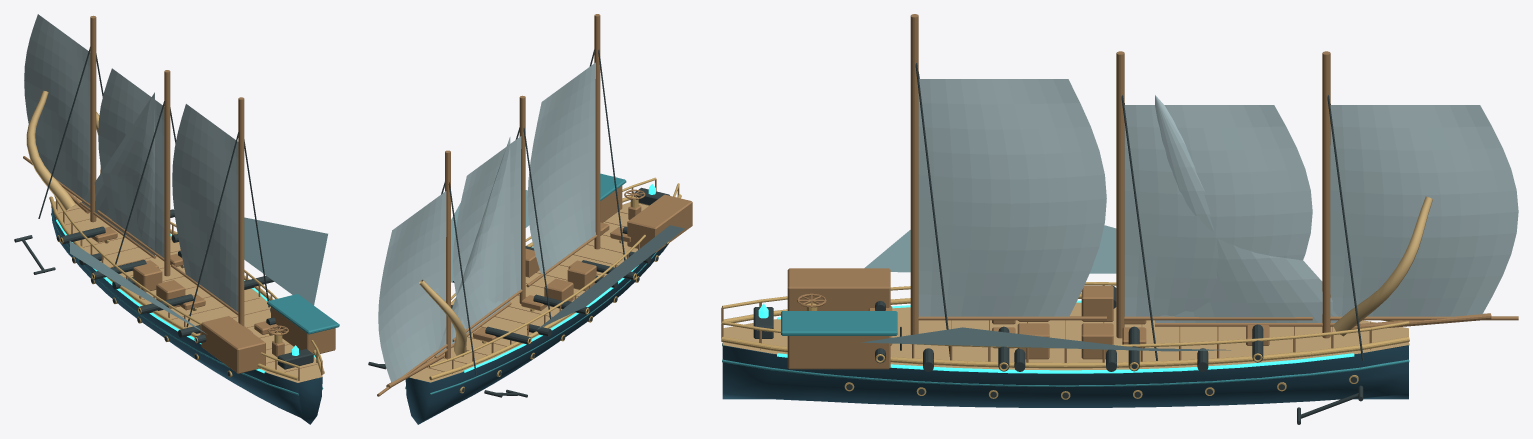
Rendered from premium_ghost_frigate.glb.
The picture shows the model from 3 angles, left to right: view 1: azimuth 30°, elevation 25°; view 2: azimuth 150°, elevation 25°; view 3: azimuth 270°, elevation 25°; orthographic projection. The views are drawn at different scales.
Visible parts, largest first — view 1: premium_ghost_frigate; view 2: premium_ghost_frigate; view 3: premium_ghost_frigate.
Part boxes in pixels (box(x1,y1,x2,y2)): premium_ghost_frigate: box(14, 14, 339, 424); premium_ghost_frigate: box(368, 14, 692, 424); premium_ghost_frigate: box(721, 14, 1518, 424).
Bounding box in the file's own units: 7.32 × 9.25 × 17.43.
